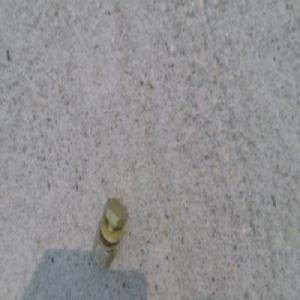BoltNutSet: (98, 192, 131, 264)
